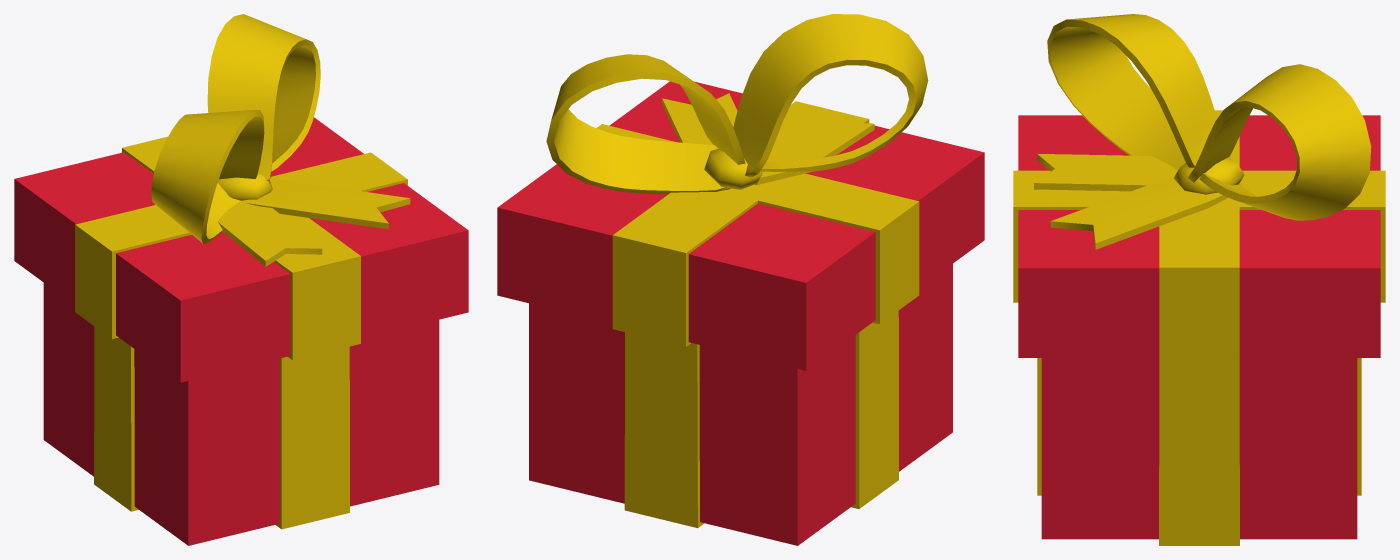
The model's file is Gift_Box_01.fbx.
The picture shows the model from 3 angles, left to right: view 1: azimuth 30°, elevation 25°; view 2: azimuth 150°, elevation 25°; view 3: azimuth 270°, elevation 25°; orthographic projection. The views are drawn at different scales.
Parts seen in each view (by area): view 1: Gift_Box_01_Top, Gift_Box_01_Bottom; view 2: Gift_Box_01_Top, Gift_Box_01_Bottom; view 3: Gift_Box_01_Top, Gift_Box_01_Bottom.
Part boxes in pixels (<box>): Gift_Box_01_Top: <box>14,14,468,382</box>; Gift_Box_01_Bottom: <box>43,283,439,545</box>; Gift_Box_01_Top: <box>497,14,984,370</box>; Gift_Box_01_Bottom: <box>529,264,952,545</box>; Gift_Box_01_Top: <box>1013,14,1385,362</box>; Gift_Box_01_Bottom: <box>1037,358,1361,545</box>.
Size of the model in its own units: 2.36 by 3 by 2.36.
